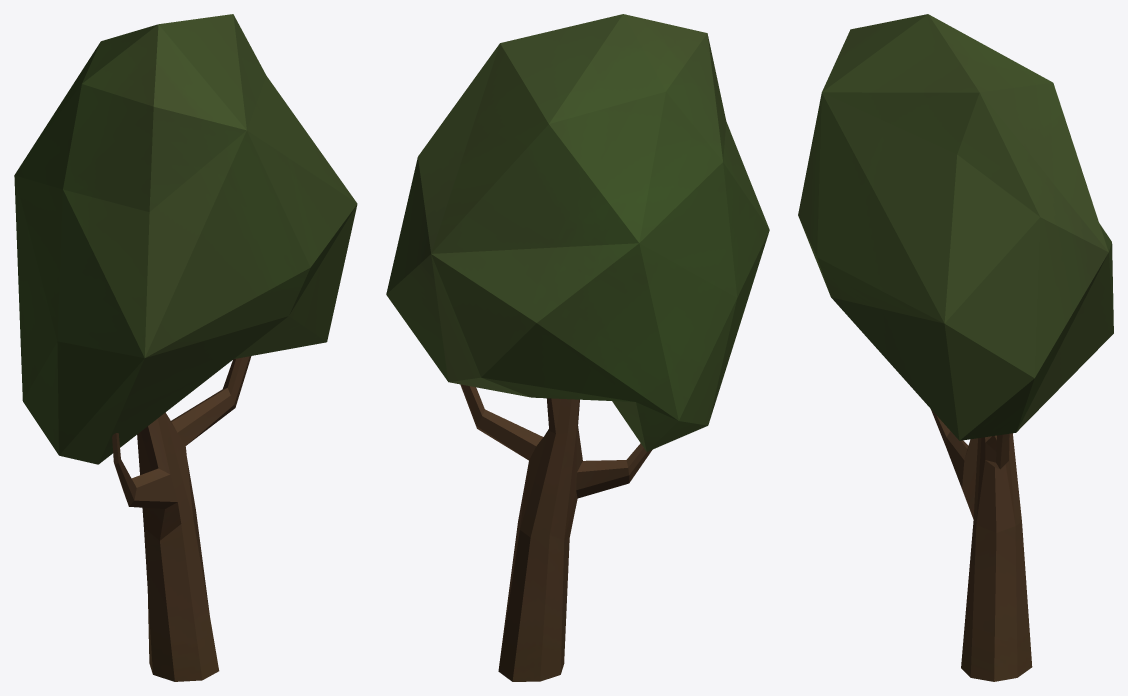
The model's file is Tree5Stage3.fbx.
3 renders of one model, left to right at view 1: azimuth 30°, elevation 25°; view 2: azimuth 150°, elevation 25°; view 3: azimuth 270°, elevation 25°, orthographic. The views are drawn at different scales.
Visible parts, largest first — view 1: Tree5Stage3; view 2: Tree5Stage3; view 3: Tree5Stage3.
Boxes of the visible parts, bbox=[...] form: Tree5Stage3: bbox=[14, 14, 357, 681]; Tree5Stage3: bbox=[386, 14, 769, 681]; Tree5Stage3: bbox=[798, 14, 1113, 681].
Size of the model in its own units: 135 by 277 by 127.
